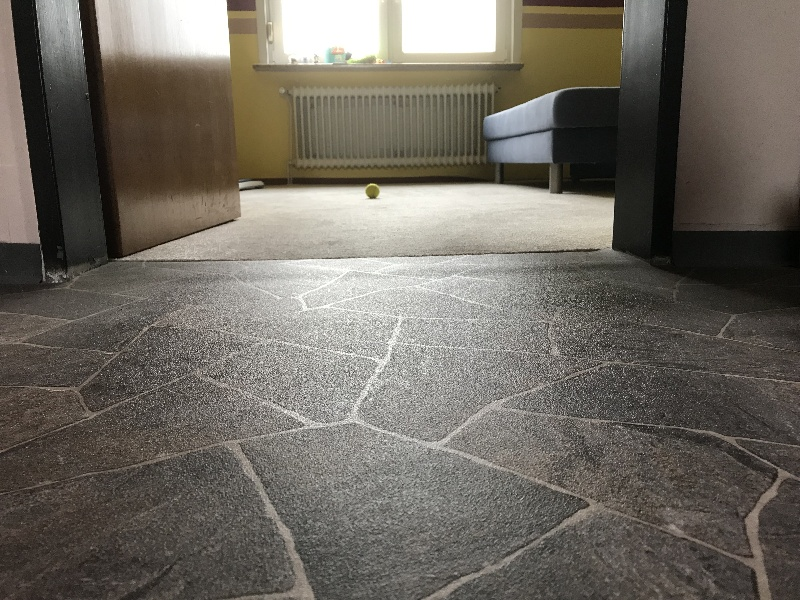Tennisball: (359, 181, 384, 204)
